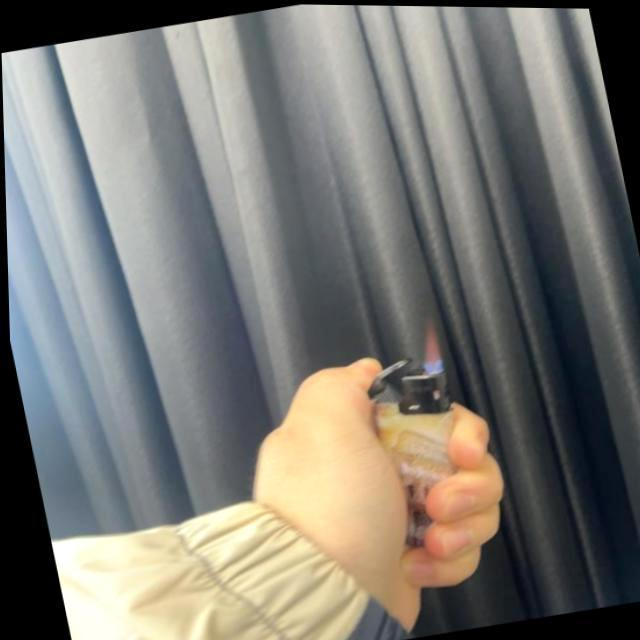fire: (408, 316, 446, 372)
